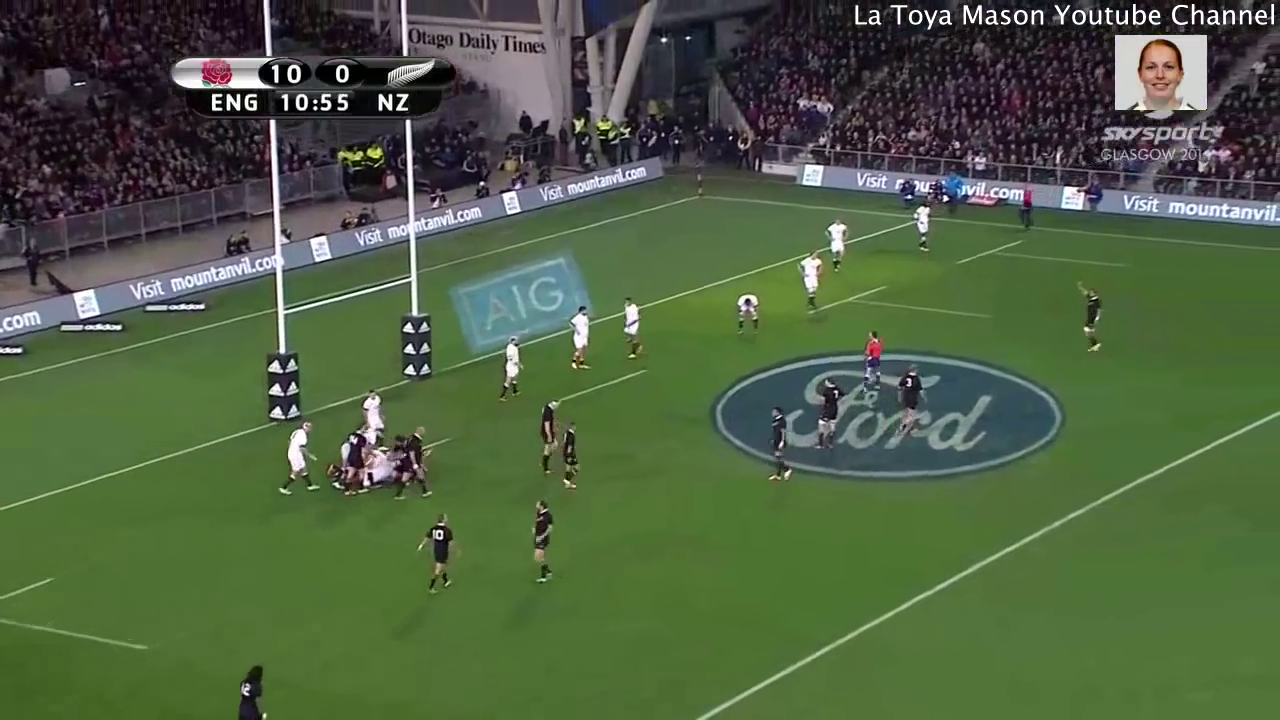player: (411, 500, 470, 603), (389, 412, 445, 504), (274, 412, 323, 502), (522, 501, 565, 597), (888, 360, 935, 443), (558, 416, 601, 504), (1074, 280, 1117, 356), (531, 392, 568, 478), (229, 654, 276, 720), (813, 374, 849, 458), (763, 403, 798, 488), (489, 328, 529, 400), (615, 292, 653, 365), (338, 420, 371, 500), (857, 322, 890, 400), (789, 245, 826, 312), (350, 382, 395, 434), (819, 214, 857, 275), (565, 296, 595, 372), (730, 287, 767, 344), (909, 197, 936, 256)
post: (250, 128, 445, 431)
ruck: (323, 429, 443, 497)
